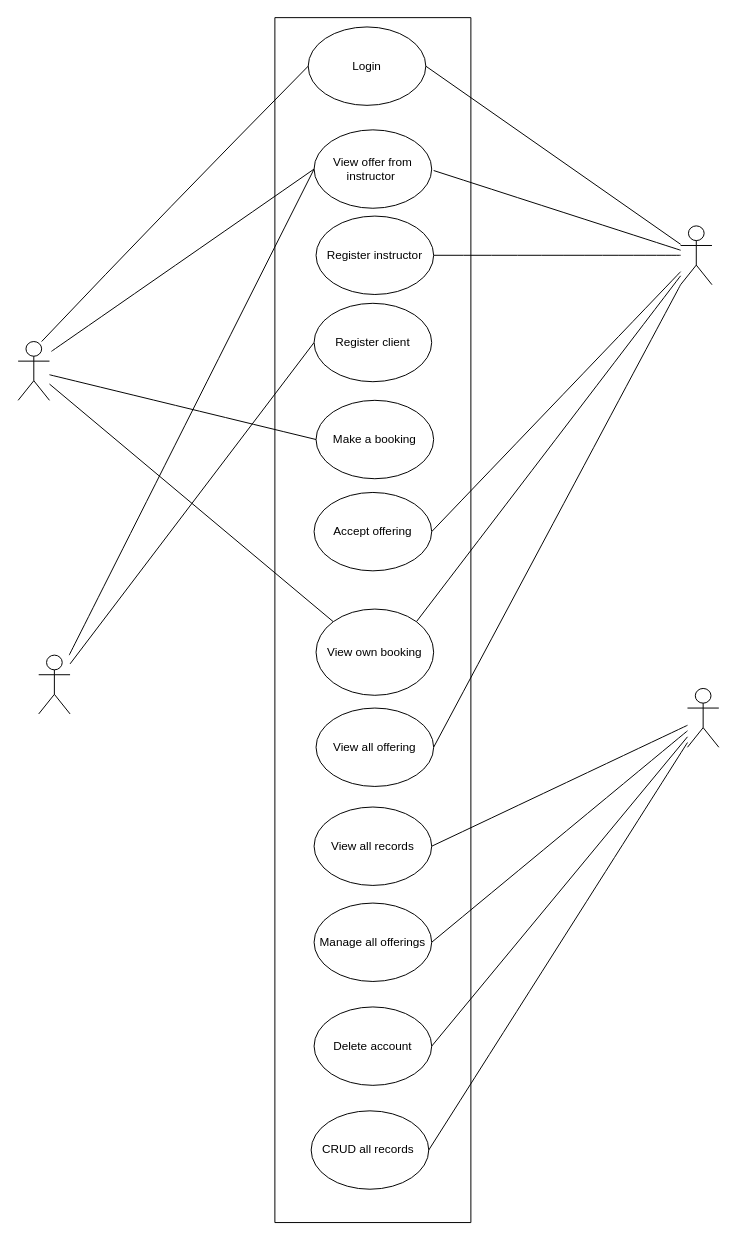
Some shapes in this 755 by 1240 pixel diagram are drawn without their labels. The centre of each missing label's shape, as x and y in pixels:
"Administrator" belongs at pixel 702 717.
"Client" belongs at pixel 33 370.
"General public" belongs at pixel 54 684.
"Instructor" belongs at pixel 696 255.
